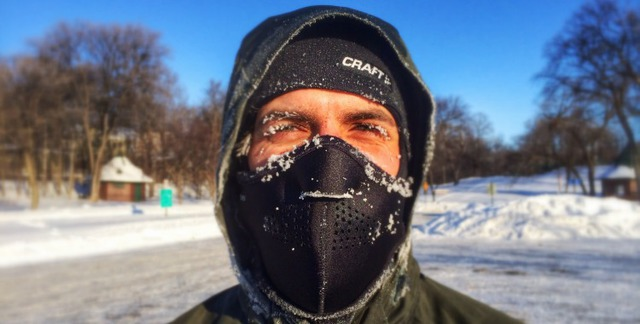mask: (240, 160, 425, 307)
